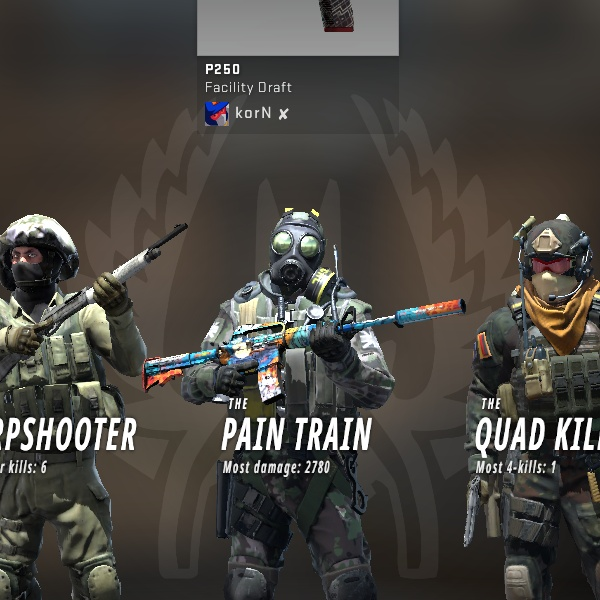ct_body: (425, 186, 589, 600), (0, 192, 157, 600)
ct_head: (498, 203, 597, 315), (0, 203, 89, 305)
